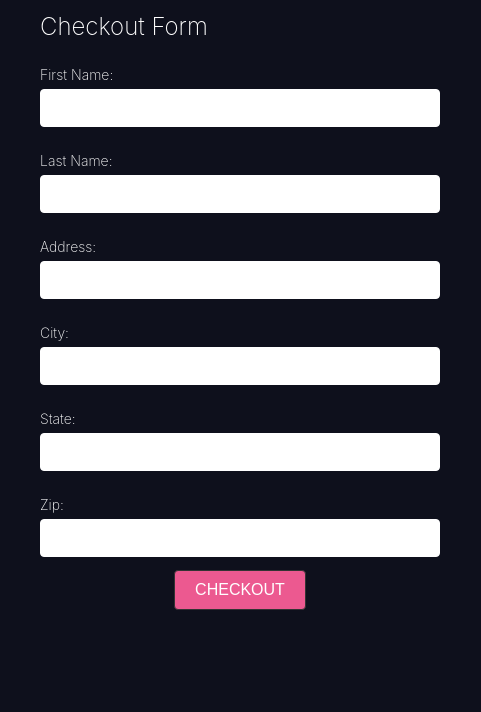
Test: form shows success message on submit with form details
Type "Tiffany" into the field with test id "firstName" at x=240, y=108, box [40, 89, 440, 127]
Type "Arellano" into the field with test id "lastName" at x=240, y=194, box [40, 175, 440, 213]
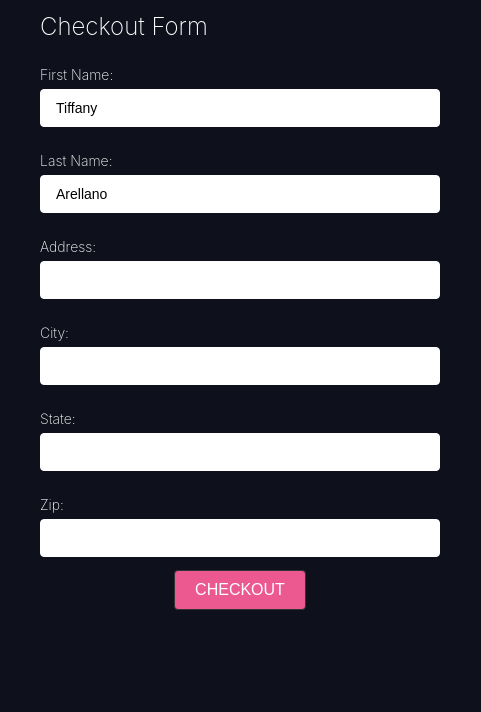
Type "1234 Rainbow St" into the field with test id "address" at x=240, y=280, box [40, 261, 440, 299]
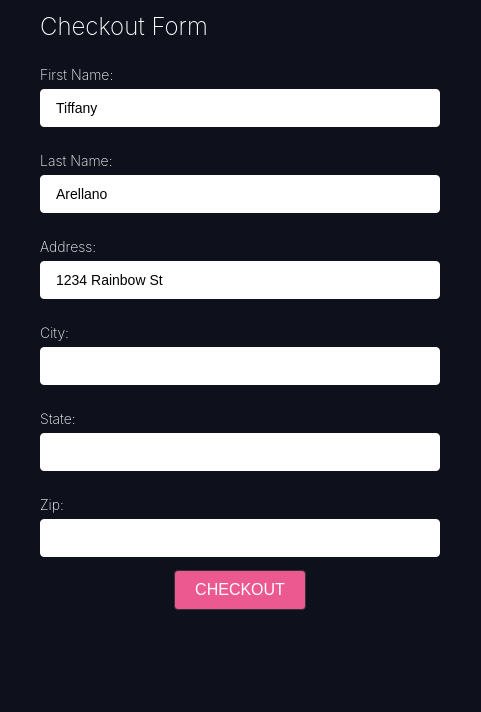
Type "Seattle" into the field with test id "city" at x=240, y=366, box [40, 347, 440, 385]
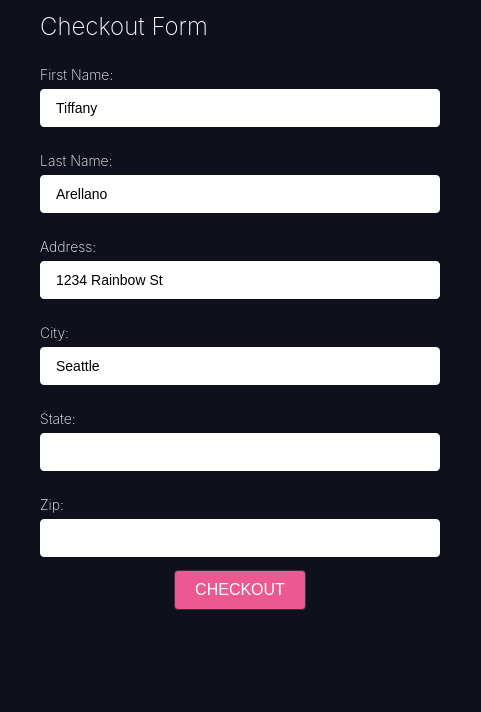
Type "WA" into the field with test id "state" at x=240, y=452, box [40, 433, 440, 471]
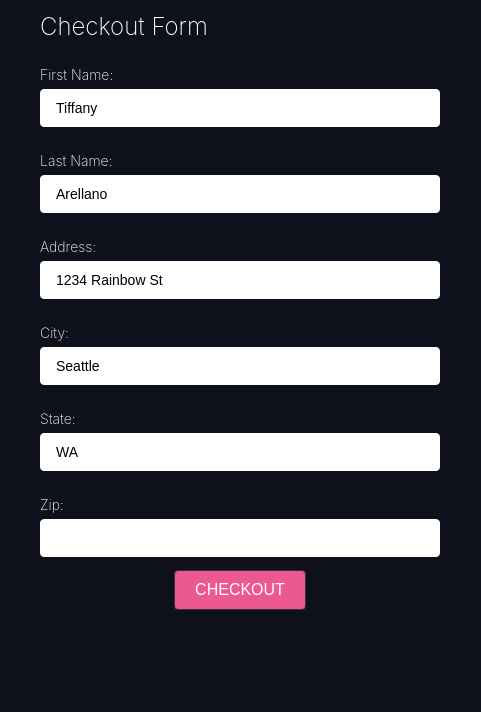
Type "12345" into the field with test id "zip" at x=240, y=538, box [40, 519, 440, 557]
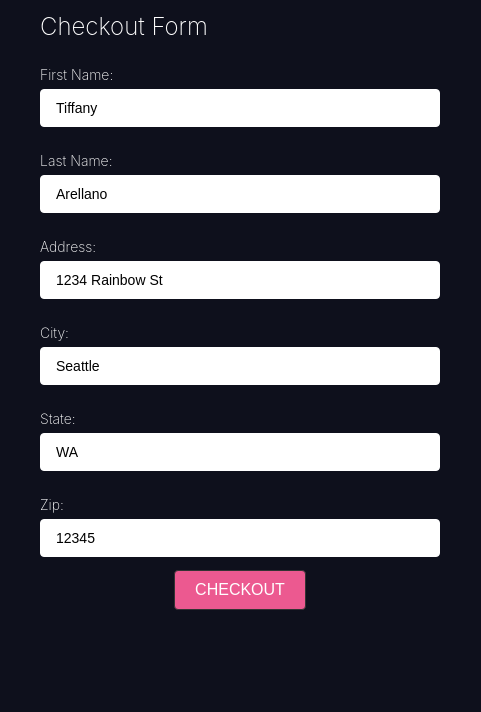
Click the button with test id "checkout" at x=240, y=590, box [174, 570, 306, 610]
(page scrolled)
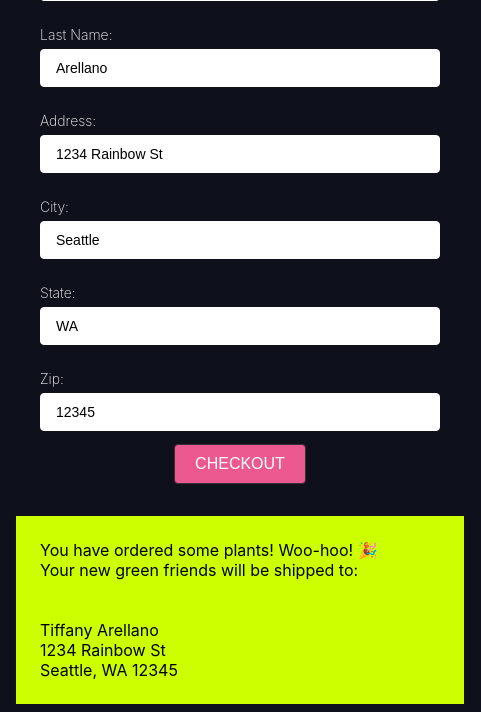
Now the text with test id "success-address" reads "1234 Rainbow St", box [40, 640, 166, 660]
